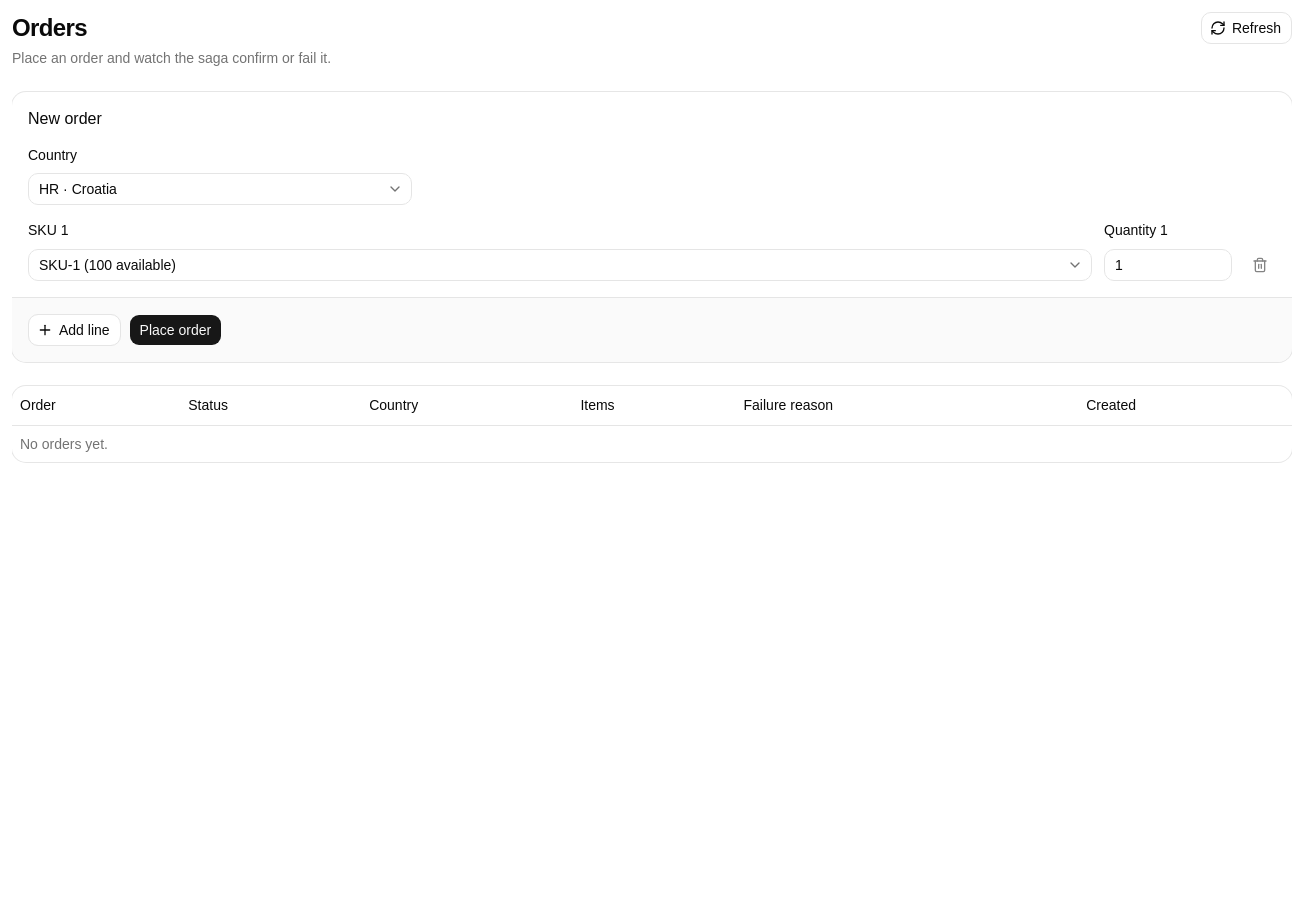
Test: OrdersRoute › posts a new order with the chosen country, SKU and quantity, then refreshes the list
Expected: the text "No orders yet." is shown, 12,426 -> 1292,462
Replace the text in the number field labelled "Quantity 1" with "3" at (1168, 264), box 1104,248 -> 1232,280
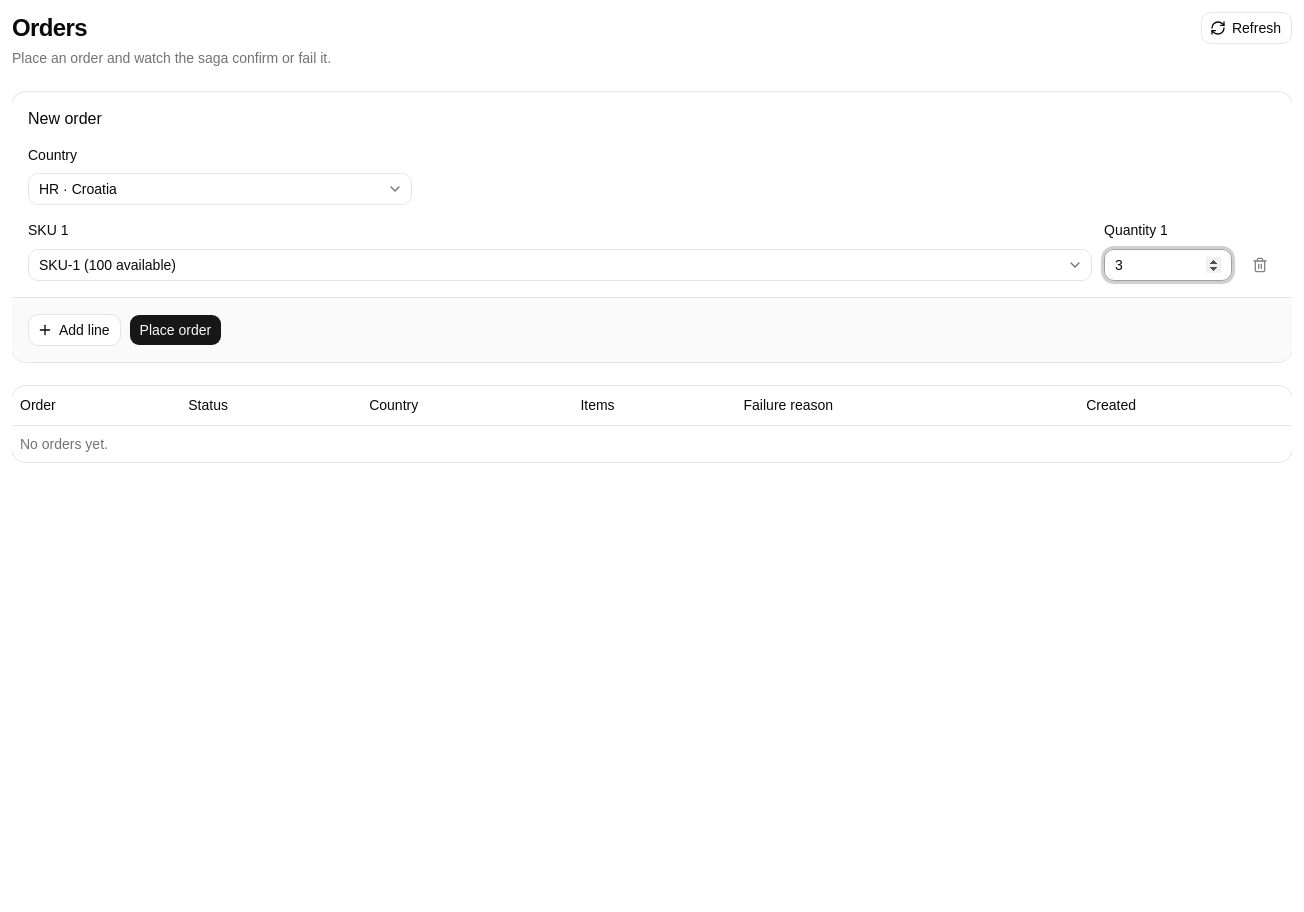
Click the button "Place order" at (175, 330), box 129,314 -> 222,346
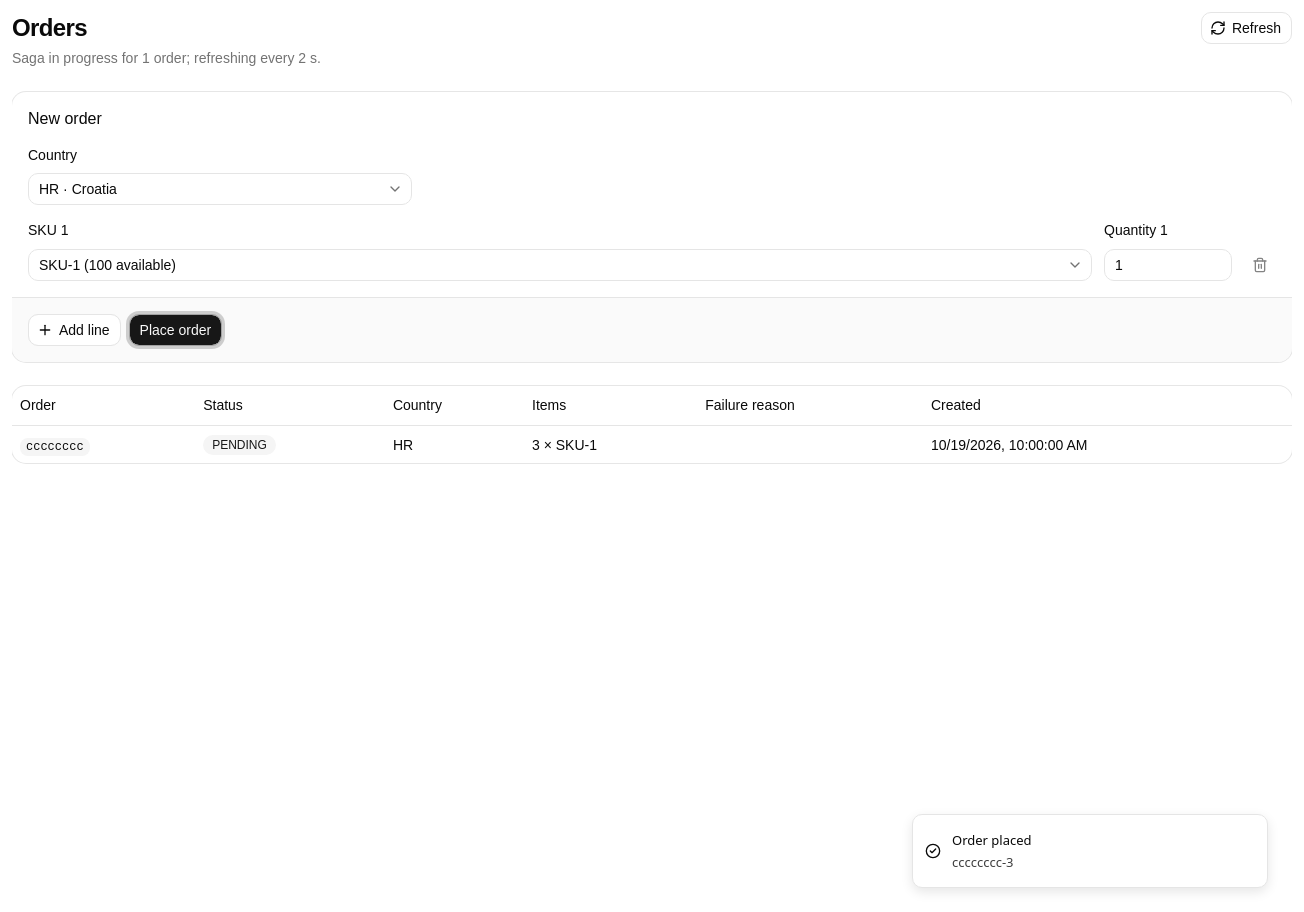
Expected: the text "Order placed" is shown, 952,831 -> 1032,851
Expected: the row "cccccccc PENDING HR 3 × SKU-1 10/19/2026, 10:00:00 AM" is shown, 12,426 -> 1292,463
